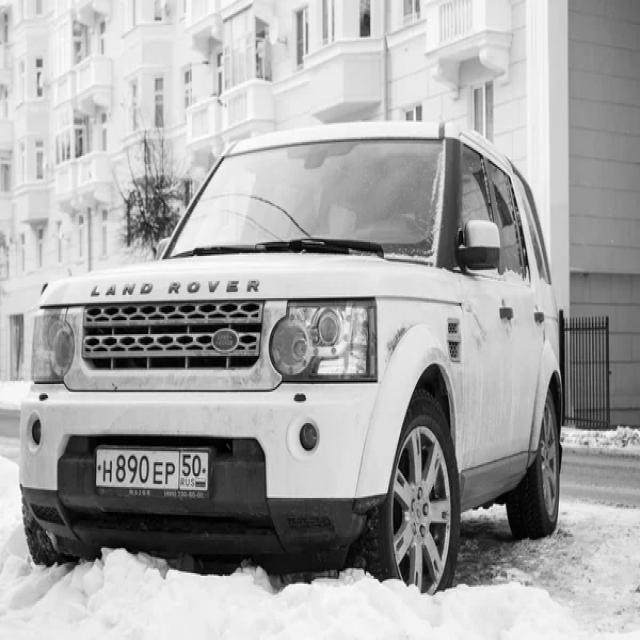Car: (19, 123, 563, 594)
